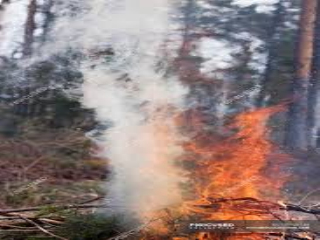fire: (207, 101, 290, 230)
smoke: (87, 64, 188, 219)
